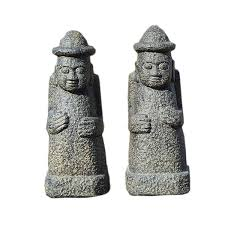Stone Statue: (109, 23, 197, 202), (31, 25, 113, 207)
